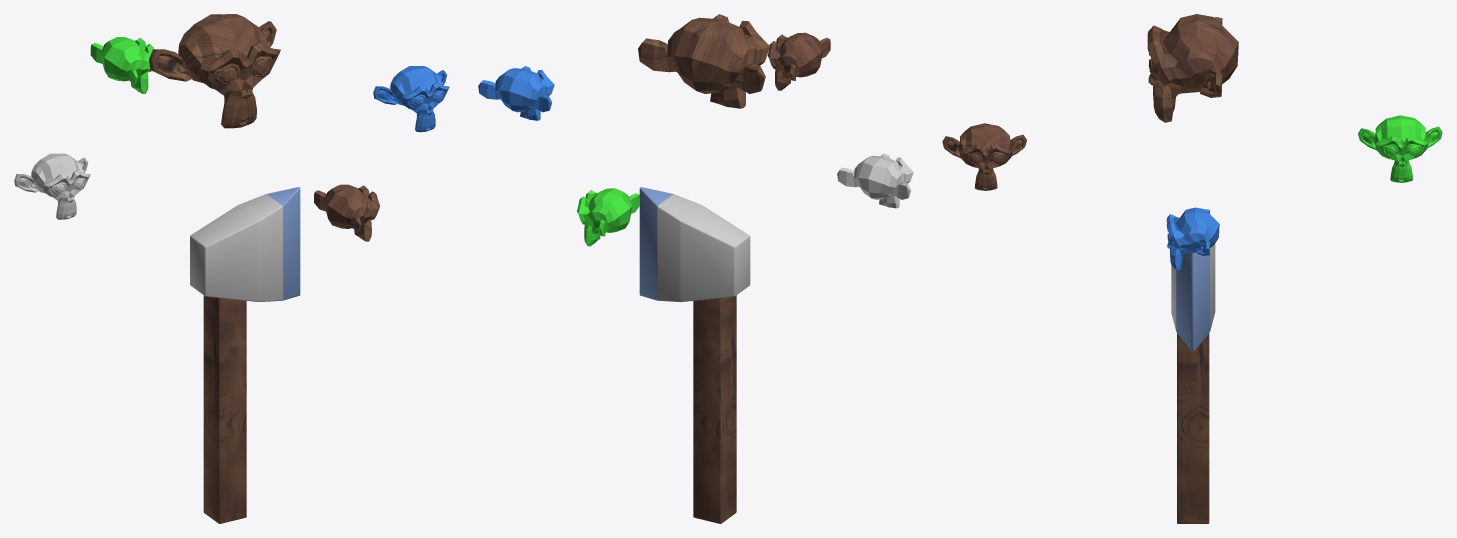
The model's file is asset.gltf.
The picture shows the model from 3 angles, left to right: view 1: azimuth 30°, elevation 25°; view 2: azimuth 150°, elevation 25°; view 3: azimuth 270°, elevation 25°; orthographic projection.
Visible parts, largest first — view 1: Mesh_Axe, Suzanne, Suzanne.001, Suzanne.002, Suzanne.003, Suzanne.004; view 2: Mesh_Axe, Suzanne, Suzanne.002, Suzanne.001, Suzanne.004, Suzanne.003; view 3: Mesh_Axe, Suzanne, Suzanne.004, Suzanne.003, Suzanne.002.
Part boxes in pixels (<box>): Mesh_Axe: <box>190,187,300,523</box>; Suzanne: <box>149,14,280,128</box>; Suzanne.001: <box>14,153,90,219</box>; Suzanne.002: <box>373,66,449,132</box>; Suzanne.003: <box>314,184,379,241</box>; Suzanne.004: <box>90,37,153,93</box>; Mesh_Axe: <box>639,187,750,523</box>; Suzanne: <box>638,14,769,108</box>; Suzanne.002: <box>478,66,554,120</box>; Suzanne.001: <box>837,153,913,208</box>; Suzanne.004: <box>577,188,639,246</box>; Suzanne.003: <box>767,32,830,90</box>; Mesh_Axe: <box>1171,243,1215,523</box>; Suzanne: <box>1147,14,1238,122</box>; Suzanne.004: <box>1358,115,1442,182</box>; Suzanne.003: <box>942,123,1026,190</box>; Suzanne.002: <box>1166,207,1219,270</box>.
Size of what is drawn, in the model's own units: 8.09 by 8.84 by 8.08.
Materials: 5 (1 with a texture image).
